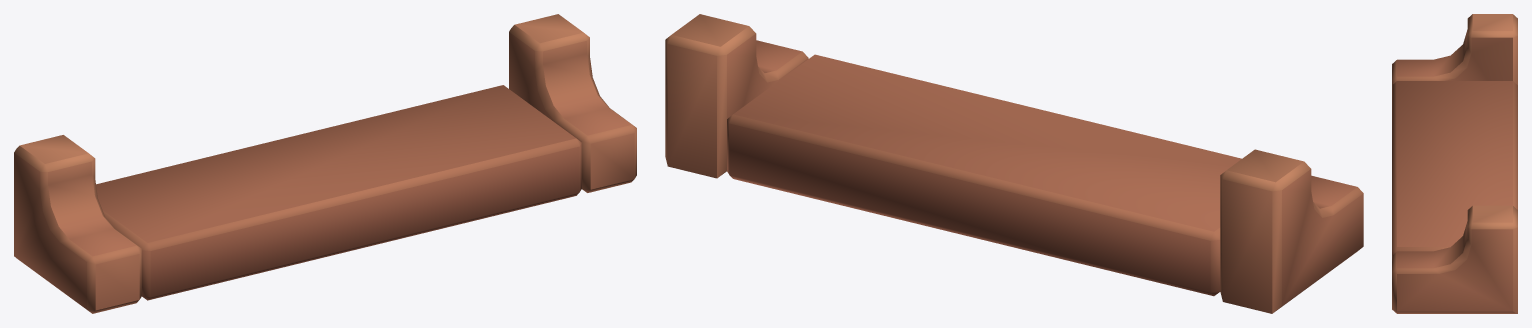
The model's file is furn_bookshelf.glb.
3 renders of one model, left to right at view 1: azimuth 30°, elevation 25°; view 2: azimuth 150°, elevation 25°; view 3: azimuth 270°, elevation 25°, orthographic. The views are drawn at different scales.
Visible parts, largest first — view 1: shelf_B_large; view 2: shelf_B_large; view 3: shelf_B_large.
Boxes of the visible parts, bbox=[...] form: shelf_B_large: bbox=[14, 14, 636, 313]; shelf_B_large: bbox=[665, 14, 1363, 313]; shelf_B_large: bbox=[1392, 14, 1517, 313].
Size of the model in its own units: 2 by 0.3999 by 0.5001.
1 material, 1 textured.
